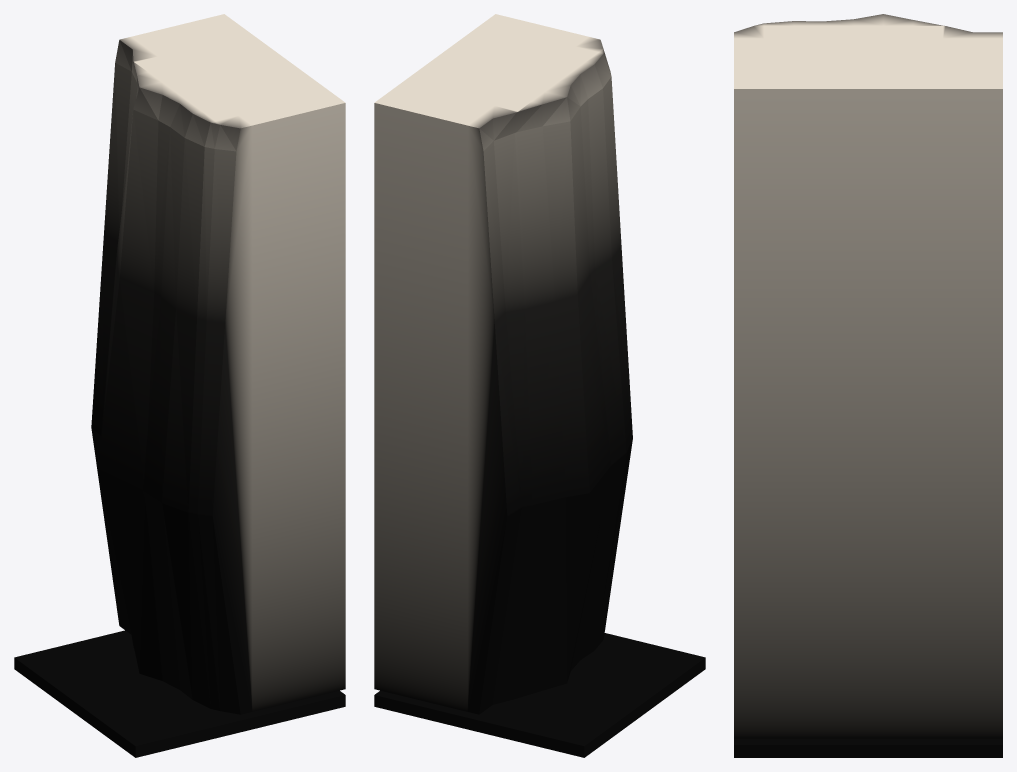
File: SM_VKI_Ground_Cave_XOOX_Q00.fbx
The picture shows the model from 3 angles, left to right: view 1: azimuth 30°, elevation 25°; view 2: azimuth 150°, elevation 25°; view 3: azimuth 270°, elevation 25°; orthographic projection. The views are drawn at different scales.
Parts seen in each view (by area): view 1: SM_VKI_Ground_Cave_XOOX_Q00.001; view 2: SM_VKI_Ground_Cave_XOOX_Q00.001; view 3: SM_VKI_Ground_Cave_XOOX_Q00.001.
Boxes of the visible parts, x1,y1,x2,y2 form: SM_VKI_Ground_Cave_XOOX_Q00.001: [14, 14, 345, 757]; SM_VKI_Ground_Cave_XOOX_Q00.001: [374, 14, 705, 757]; SM_VKI_Ground_Cave_XOOX_Q00.001: [734, 14, 1002, 757].
Bounding box in the file's own units: 1.5 × 4.12 × 1.5.
